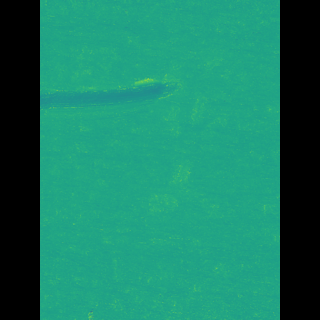Loch: (69, 73, 182, 129)
